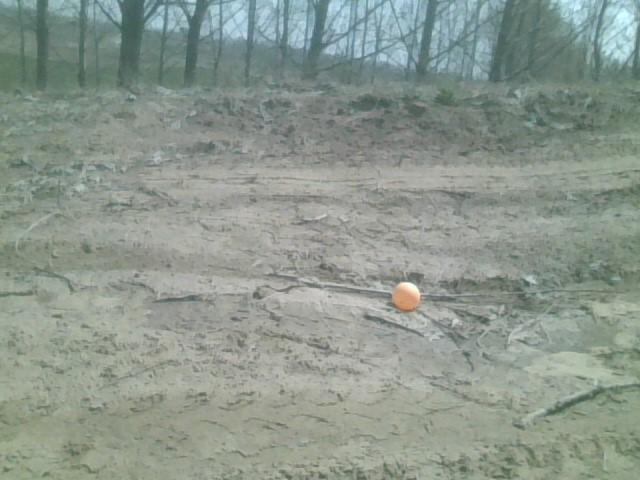ball: (394, 282, 420, 311)
